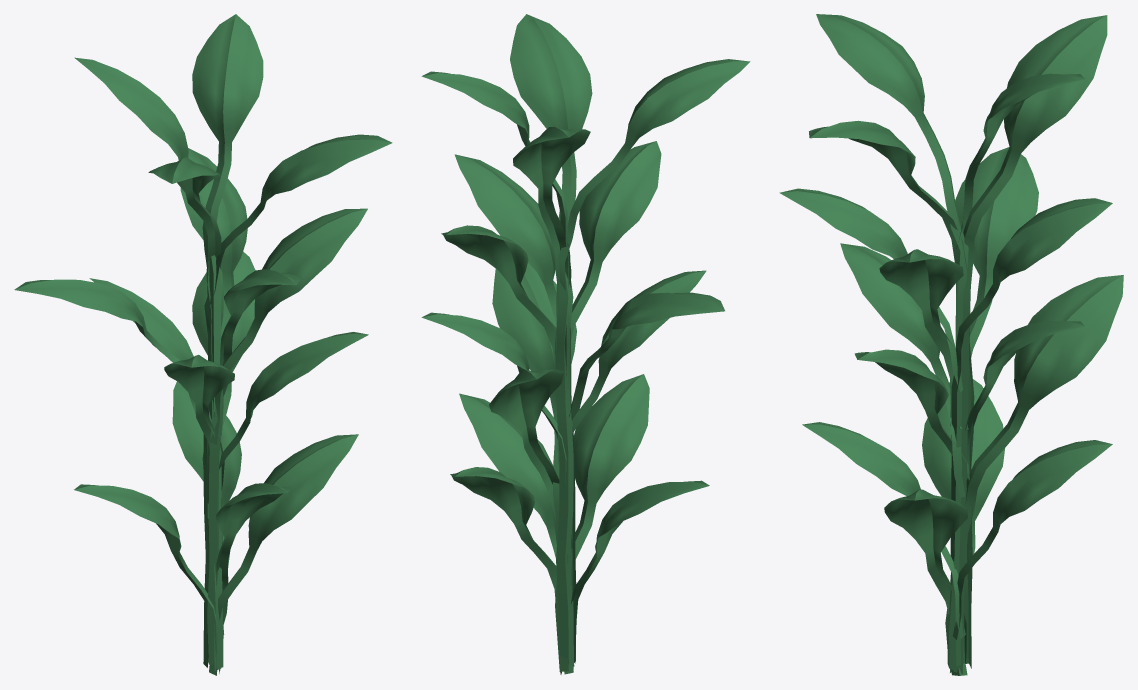
The model's file is tropical_small07.fbx.
3 renders of one model, left to right at view 1: azimuth 30°, elevation 25°; view 2: azimuth 150°, elevation 25°; view 3: azimuth 270°, elevation 25°, orthographic. The views are drawn at different scales.
Parts seen in each view (by area): view 1: tropical_small07; view 2: tropical_small07; view 3: tropical_small07.
Part boxes in pixels (<box>): tropical_small07: <box>14,14,392,675</box>; tropical_small07: <box>421,14,750,674</box>; tropical_small07: <box>779,14,1123,675</box>.
Size of the model in its own units: 0.5046 by 0.9357 by 0.4588.
